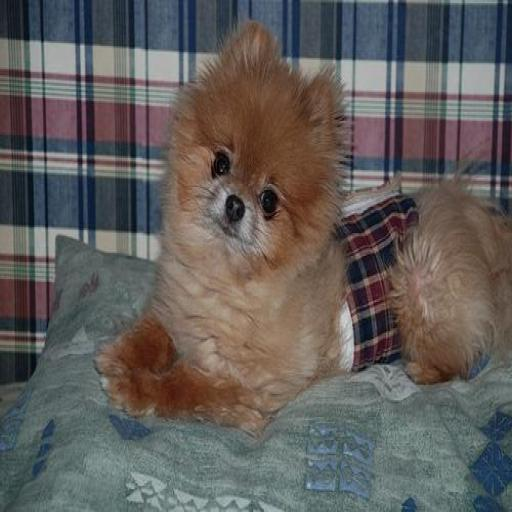dog_face: (178, 30, 329, 261)
